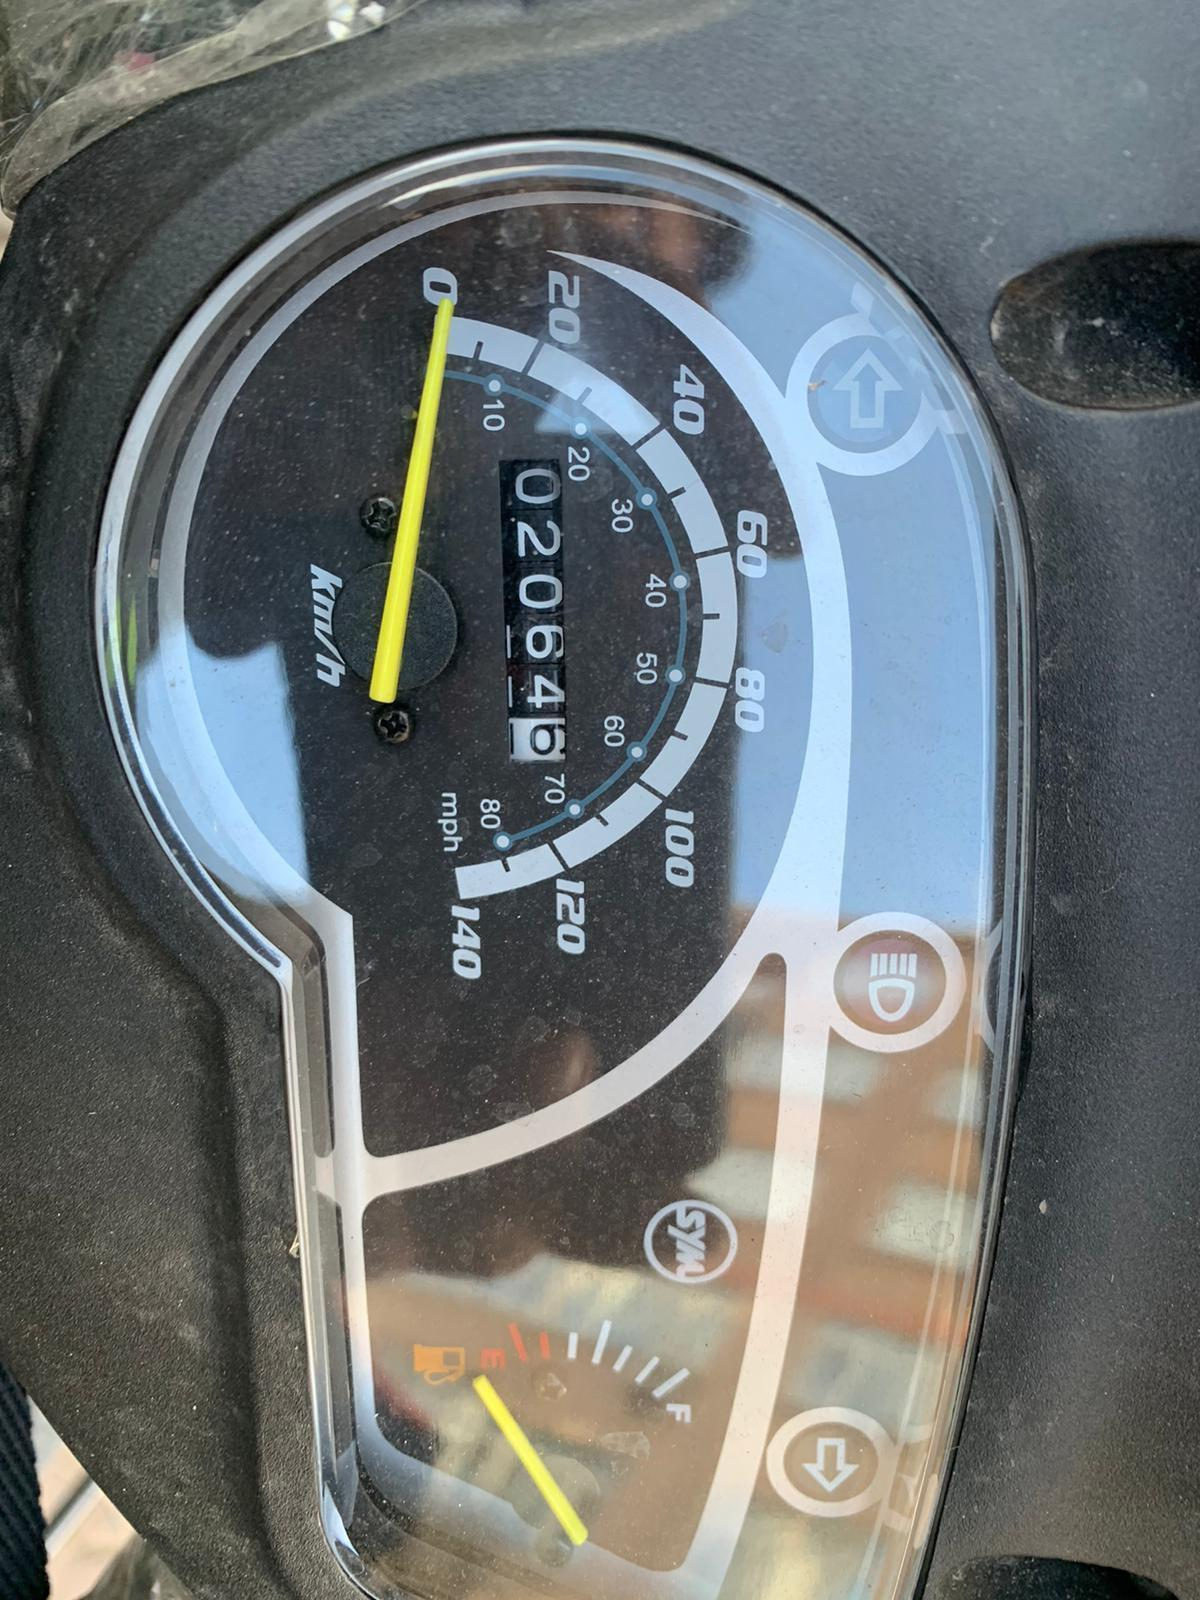0: (512, 466, 563, 505), (514, 572, 563, 609)
2: (513, 519, 563, 559)
4: (521, 671, 566, 713)
6: (524, 621, 566, 661), (524, 723, 568, 758)
odometer: (492, 454, 568, 775)
